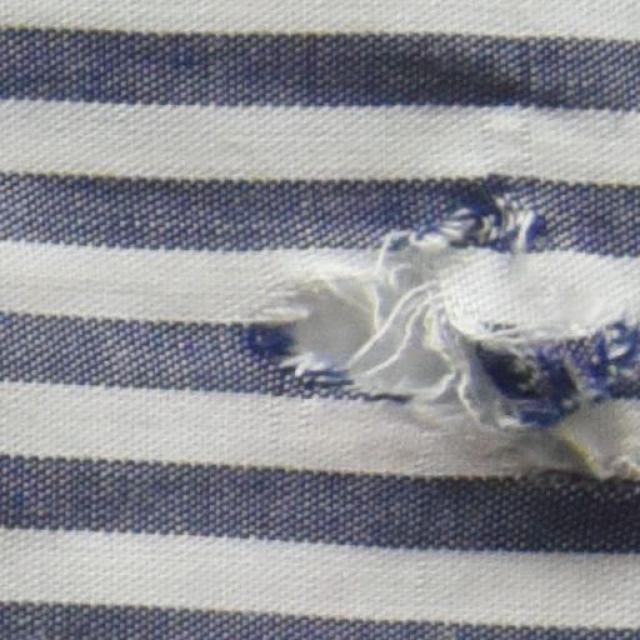cut: (247, 198, 533, 416), (450, 390, 638, 486)
